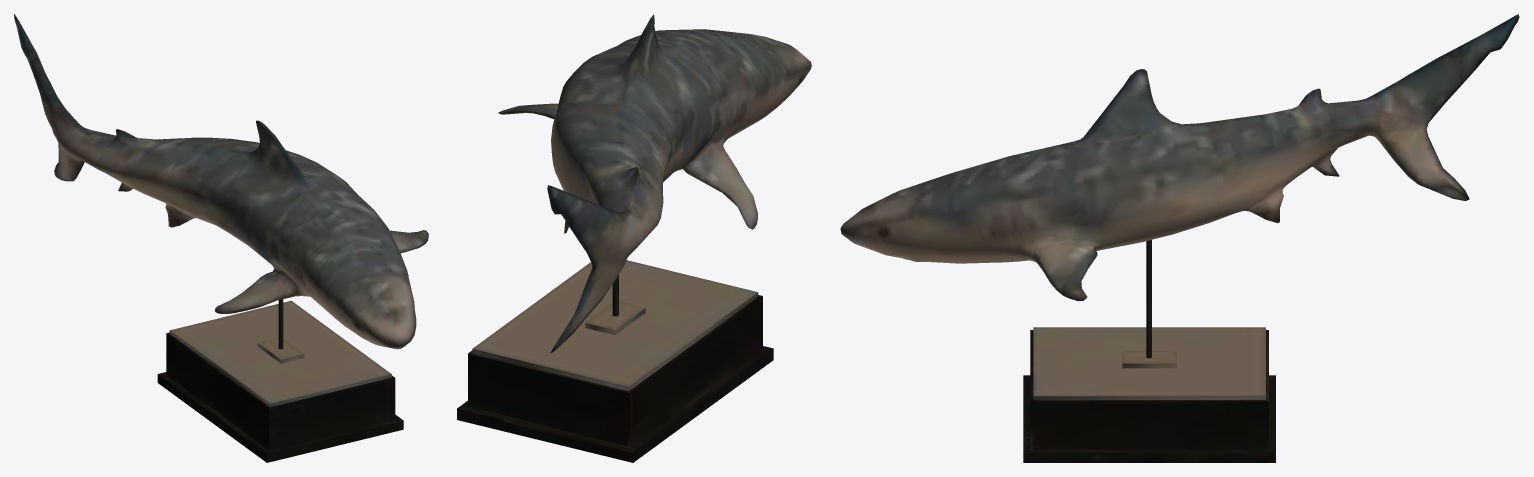
The model's file is design-bronze-shark-statue.glb.
3 renders of one model, left to right at view 1: azimuth 30°, elevation 25°; view 2: azimuth 150°, elevation 25°; view 3: azimuth 270°, elevation 25°, orthographic. The views are drawn at different scales.
Visible parts, largest first — view 1: bronze_shark_statue; view 2: bronze_shark_statue; view 3: bronze_shark_statue.
Part boxes in pixels (<box>): bronze_shark_statue: <box>14,14,428,462</box>; bronze_shark_statue: <box>457,14,811,462</box>; bronze_shark_statue: <box>840,14,1519,462</box>.
Size of the model in its own units: 0.3518 by 0.4316 by 0.7598.
Materials: 1 (1 with a texture image).
